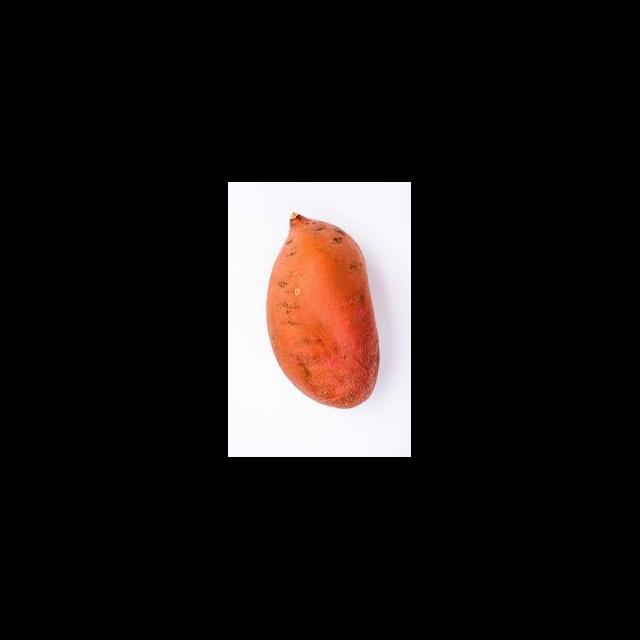food_waste: (257, 197, 393, 416)
